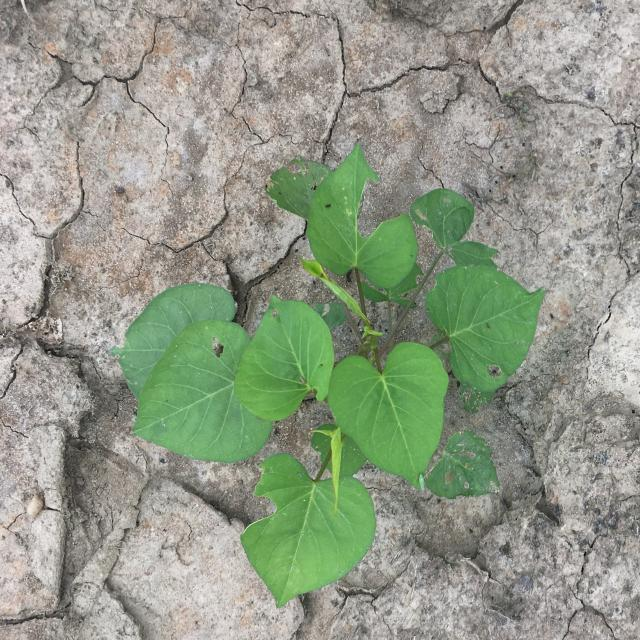MorningGlory: (107, 142, 546, 608)
